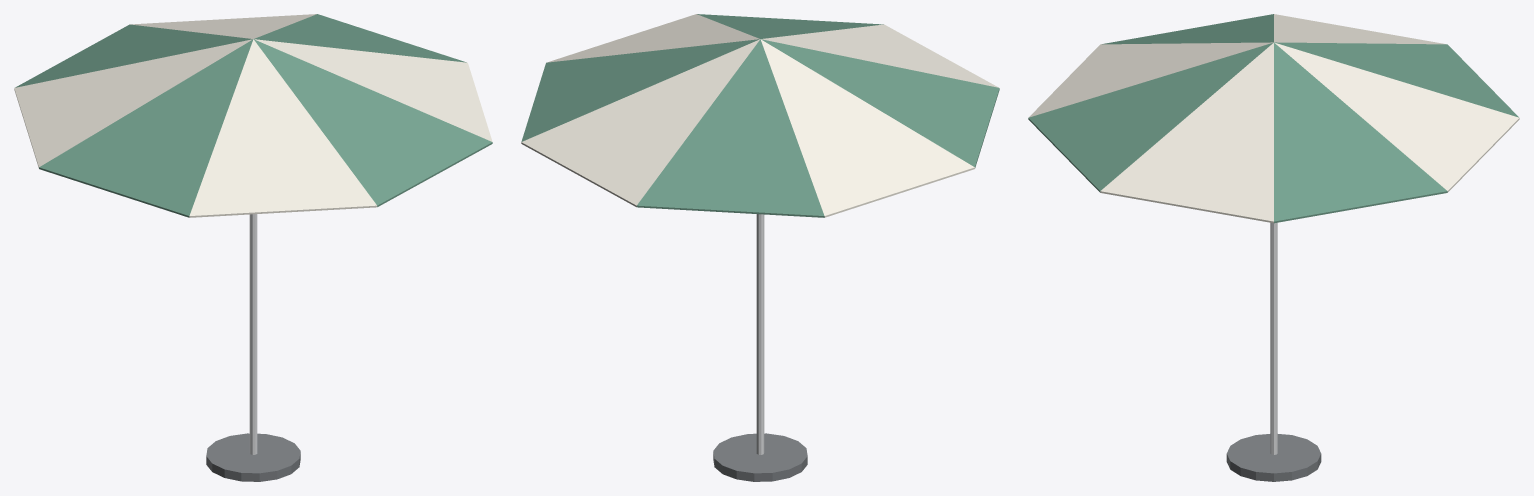
File: umbrella.glb
3 renders of one model, left to right at view 1: azimuth 30°, elevation 25°; view 2: azimuth 150°, elevation 25°; view 3: azimuth 270°, elevation 25°, orthographic.
Parts seen in each view (by area): view 1: umbrella_awn_g, umbrella_awn_w, umbrella_steel_d, umbrella_chrome; view 2: umbrella_awn_w, umbrella_awn_g, umbrella_steel_d, umbrella_chrome; view 3: umbrella_awn_w, umbrella_awn_g, umbrella_steel_d, umbrella_chrome.
Boxes of the visible parts, left/top/right/bottom form: umbrella_awn_g: left=15, top=14, right=492, bottom=217; umbrella_awn_w: left=14, top=14, right=492, bottom=217; umbrella_steel_d: left=206, top=433, right=300, bottom=481; umbrella_chrome: left=249, top=214, right=257, bottom=454; umbrella_awn_w: left=521, top=14, right=998, bottom=217; umbrella_awn_g: left=521, top=14, right=999, bottom=217; umbrella_steel_d: left=713, top=433, right=807, bottom=481; umbrella_chrome: left=756, top=214, right=764, bottom=454; umbrella_awn_w: left=1029, top=14, right=1519, bottom=223; umbrella_awn_g: left=1028, top=14, right=1518, bottom=223; umbrella_steel_d: left=1226, top=434, right=1321, bottom=481; umbrella_chrome: left=1270, top=222, right=1277, bottom=454.
Bounding box in the file's own units: 2.6 × 2.45 × 2.6.
